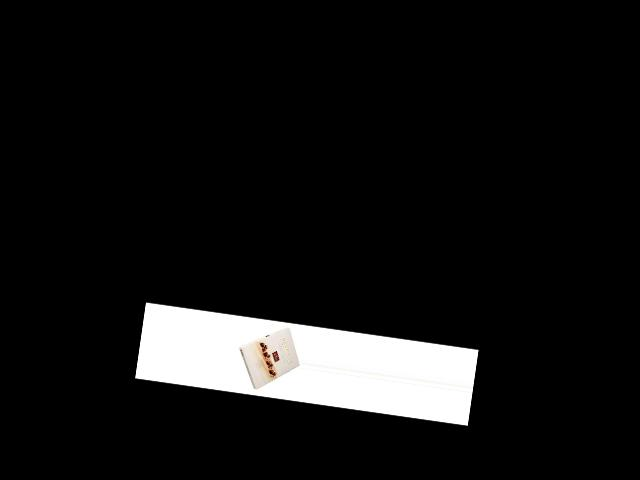chocolate: (231, 321, 303, 400)
